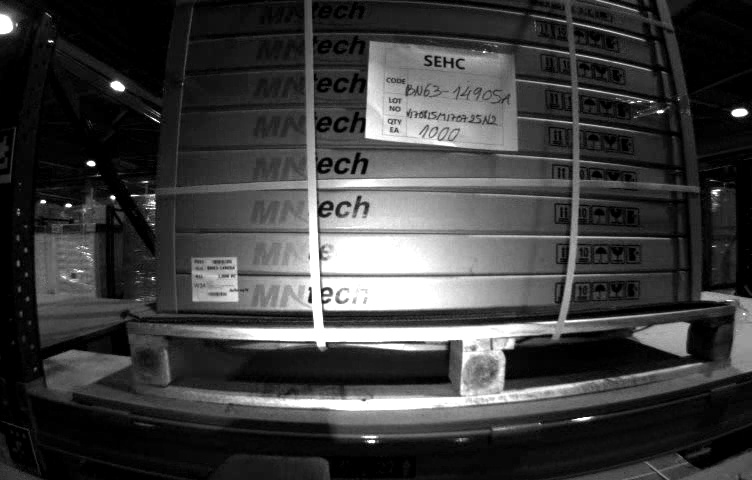True Barcode: (191, 257, 238, 301)
